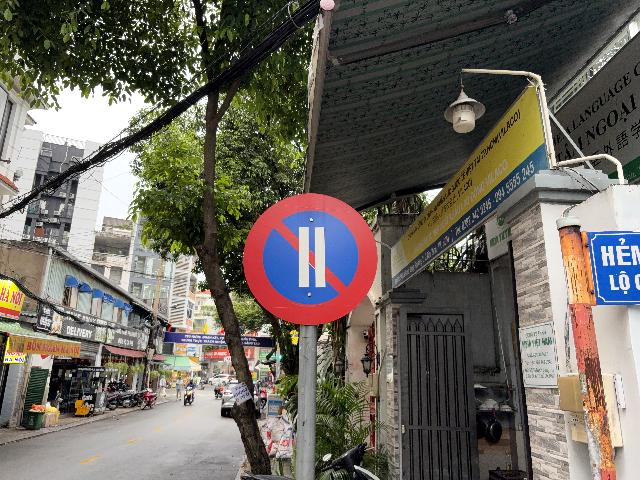cam-do-xe-ngay-chan: (244, 193, 379, 325)
